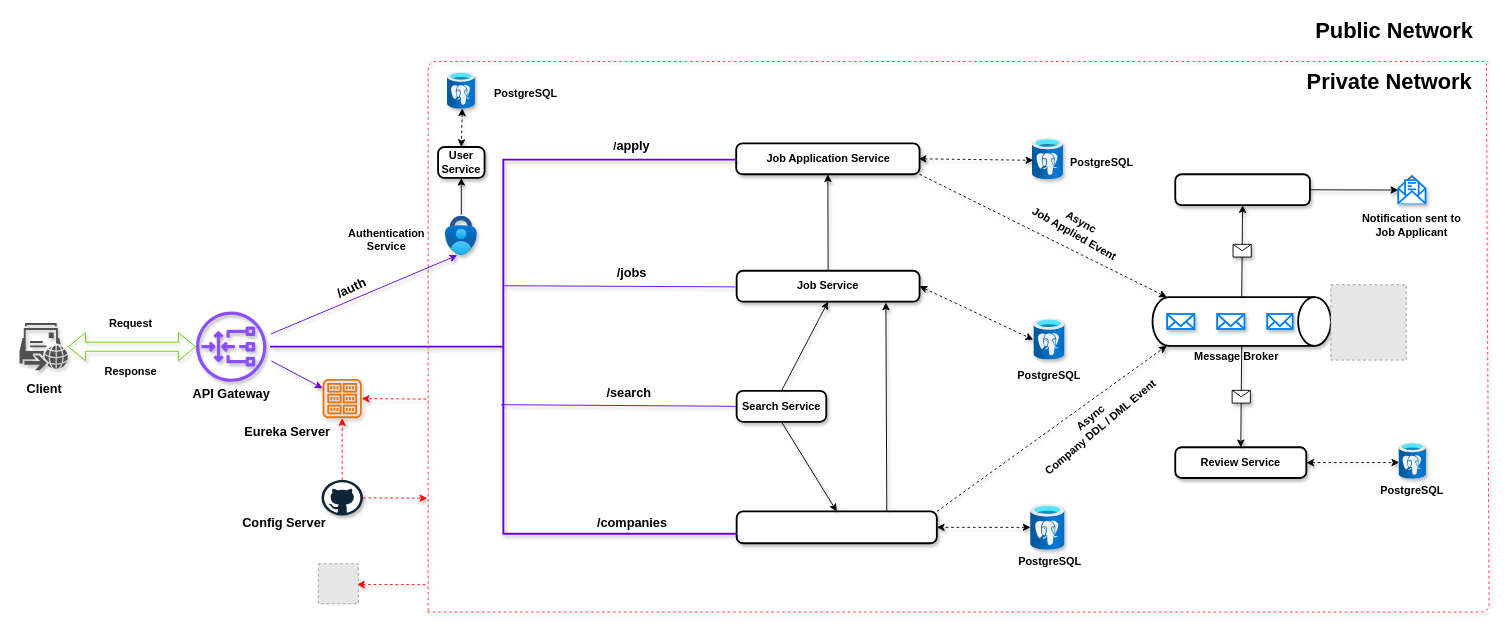
Image size: 1512x635. Some labels were removed from this diagram. Grey dashed boxes stand in for pictures. The shapes that lost their labels are listed below. From the top down, each one's centre as x and y in pixels, then its label:
At (1243,190): "Notification Service".
At (837,528): "Company Service".
